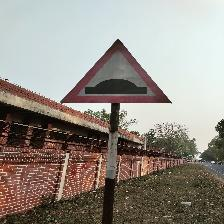Speed-breaker: (60, 39, 172, 103)
